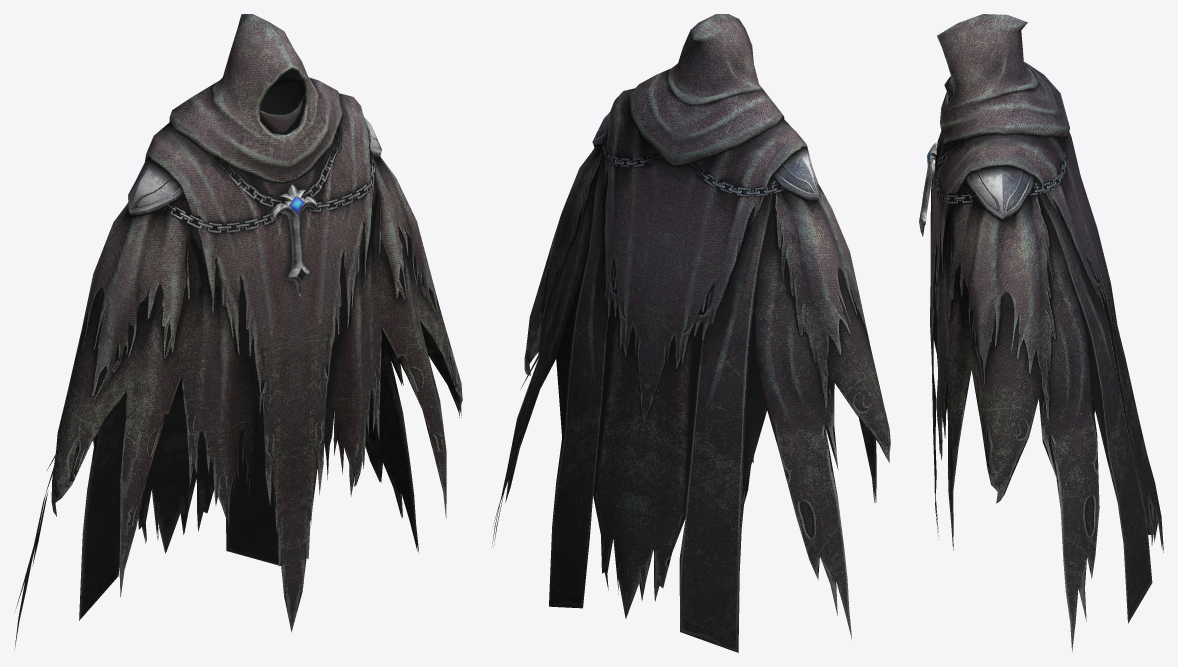
The model's file is Ghost.fbx.
3 views of the same model, side by side, from view 1: azimuth 30°, elevation 25°; view 2: azimuth 150°, elevation 25°; view 3: azimuth 270°, elevation 25° (orthographic). The views are drawn at different scales.
Parts seen in each view (by area): view 1: Spectrum_reaper; view 2: Spectrum_reaper; view 3: Spectrum_reaper.
Boxes of the visible parts, x1=… form: Spectrum_reaper: x1=14, y1=14, x2=462, y2=649; Spectrum_reaper: x1=492, y1=14, x2=890, y2=652; Spectrum_reaper: x1=919, y1=14, x2=1163, y2=652.
Size of the model in its own units: 263 by 390 by 153.
